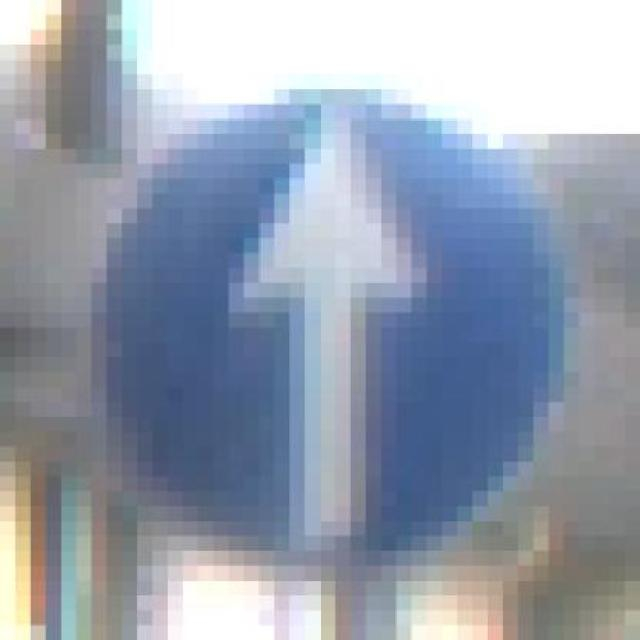Straight Ahead Only: (76, 74, 579, 580)
